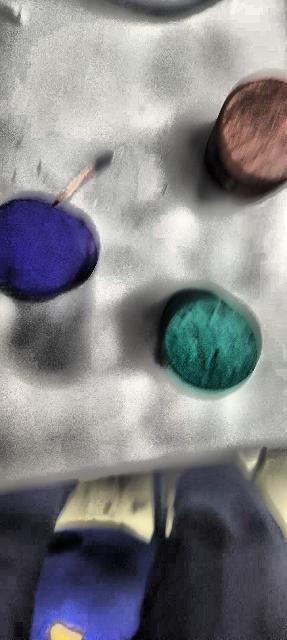blue: (1, 195, 99, 298)
green: (158, 285, 262, 393)
red: (202, 71, 287, 202)
